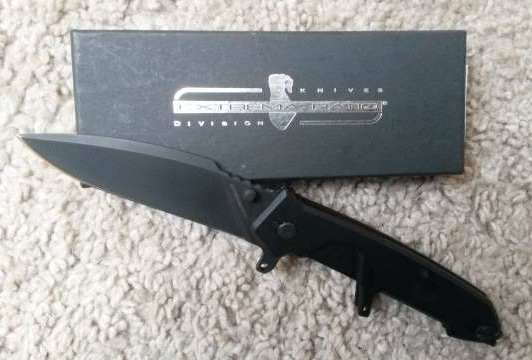knife: (14, 129, 280, 248)
